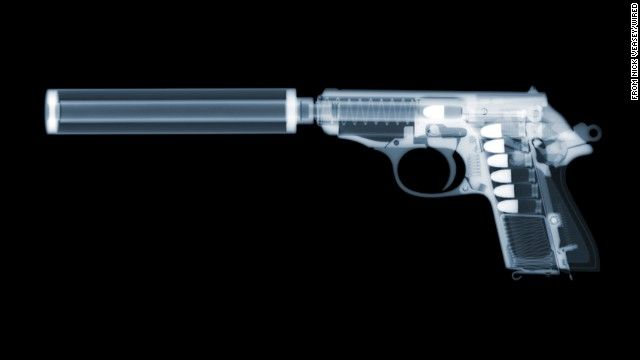gun: (34, 69, 621, 304)
